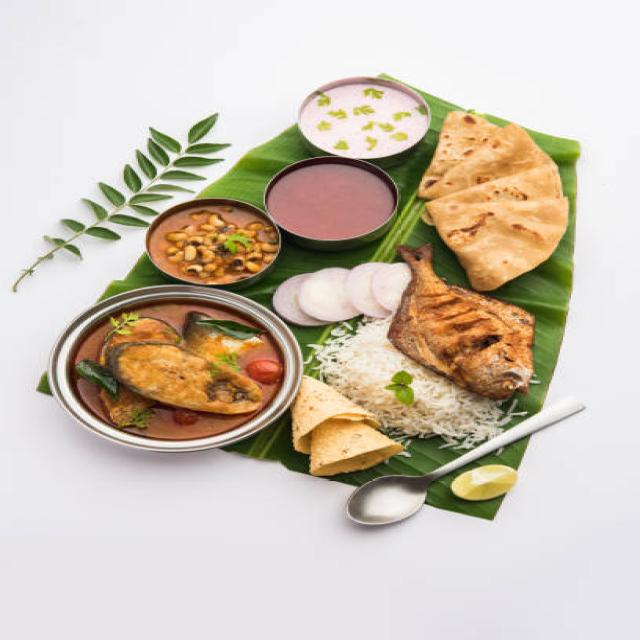CHAPATHI: (417, 112, 574, 294)
CURD: (298, 83, 429, 157)
CURRY: (152, 201, 277, 285)
FISH CURRY: (72, 299, 286, 441)
FISH FRY: (394, 242, 535, 397)
PAPADAM: (290, 377, 405, 474)
RASAM: (269, 161, 397, 239)
RICE: (326, 319, 497, 438)
